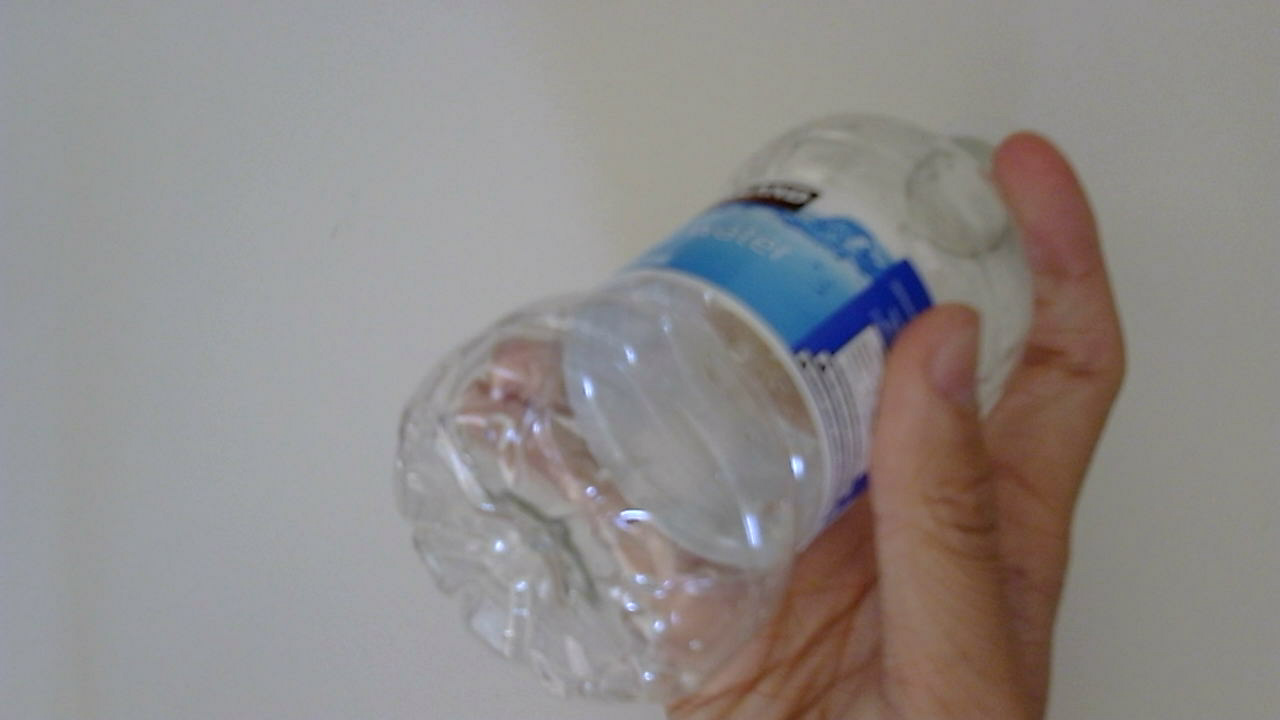Plastic Bottle: (397, 108, 1036, 710)
